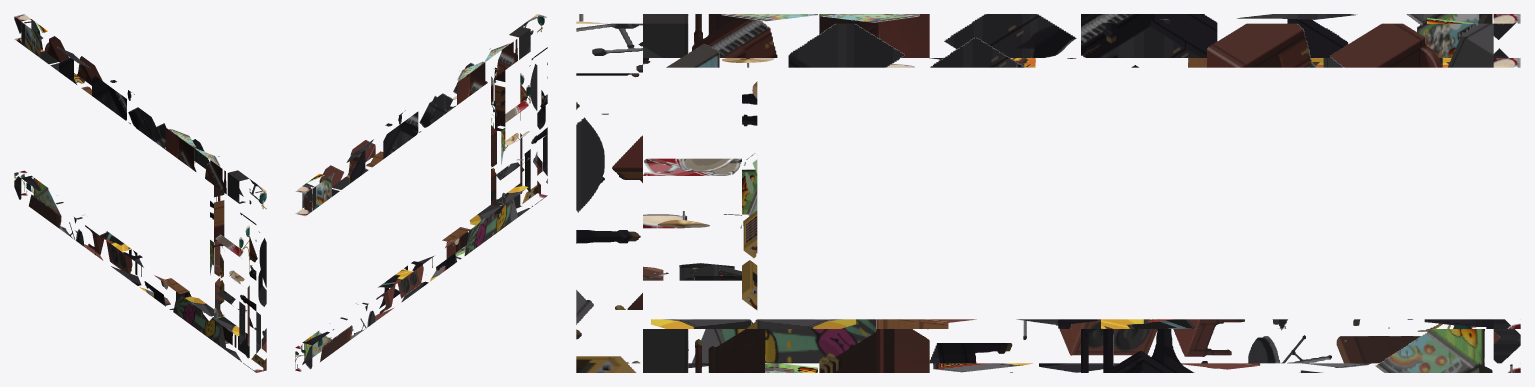
3 renders of one model, left to right at view 1: azimuth 30°, elevation 25°; view 2: azimuth 150°, elevation 25°; view 3: azimuth 270°, elevation 25°, orthographic. The views are drawn at different scales.
Bounding box in the file's own units: 0.06 × 1 × 2.45.
